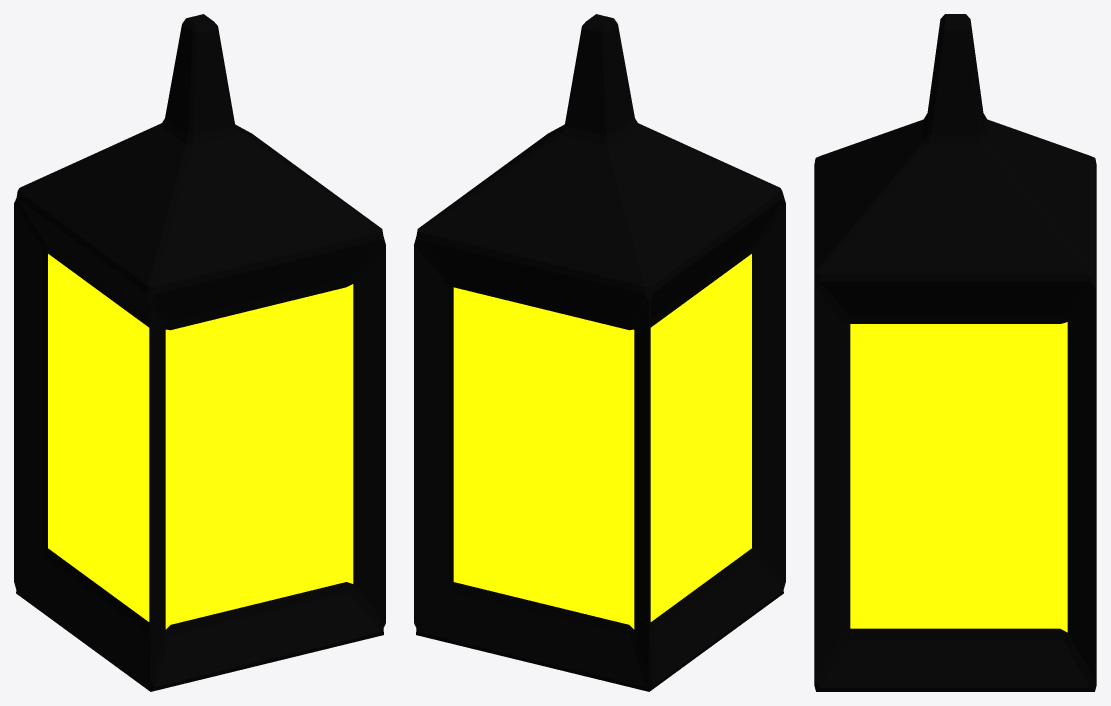
Rendered from lantern.fbx.
The picture shows the model from 3 angles, left to right: view 1: azimuth 30°, elevation 25°; view 2: azimuth 150°, elevation 25°; view 3: azimuth 270°, elevation 25°; orthographic projection. The views are drawn at different scales.
Visible parts, largest first — view 1: Cube; view 2: Cube; view 3: Cube.
Boxes of the visible parts, x1,y1,x2,y2 form: Cube: (14, 14, 385, 691); Cube: (414, 14, 785, 691); Cube: (814, 14, 1096, 691).
Size of the model in its own units: 49.27 by 118 by 49.27.
